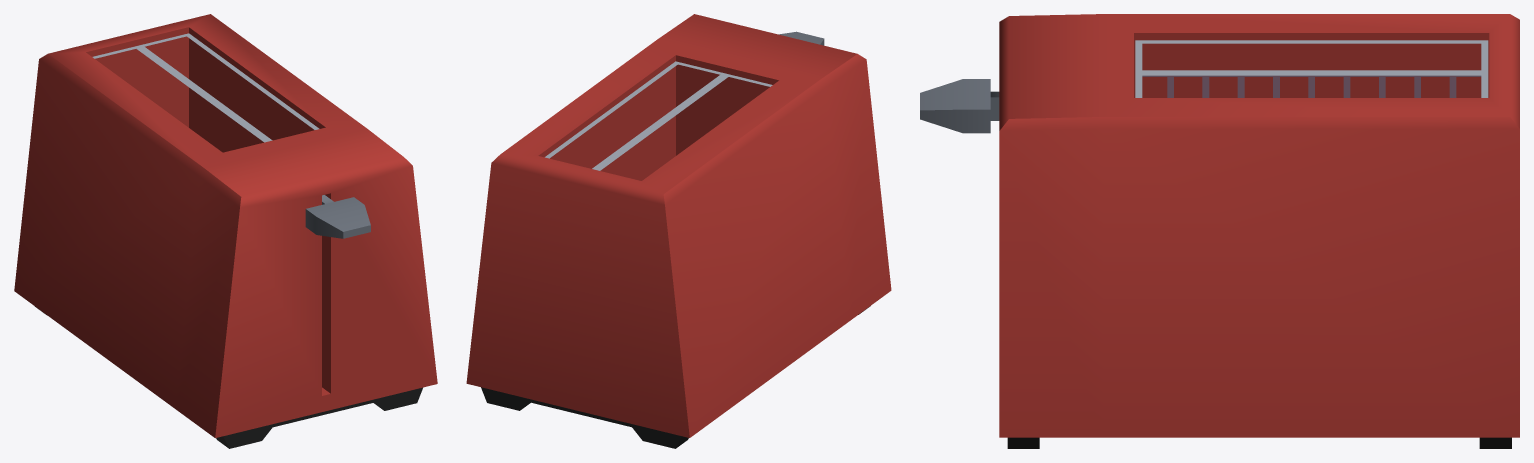
File: Toaster.glb
The picture shows the model from 3 angles, left to right: view 1: azimuth 30°, elevation 25°; view 2: azimuth 150°, elevation 25°; view 3: azimuth 270°, elevation 25°; orthographic projection. The views are drawn at different scales.
Parts seen in each view (by area): view 1: appliance_toaster_Cube.264; view 2: appliance_toaster_Cube.264; view 3: appliance_toaster_Cube.264.
Boxes of the visible parts, bbox=[...] form: appliance_toaster_Cube.264: bbox=[14, 14, 437, 448]; appliance_toaster_Cube.264: bbox=[466, 14, 891, 448]; appliance_toaster_Cube.264: bbox=[920, 14, 1519, 448].
Bounding box in the file's own units: 4.06 × 4.36 × 7.32.
1 material, 1 textured.
